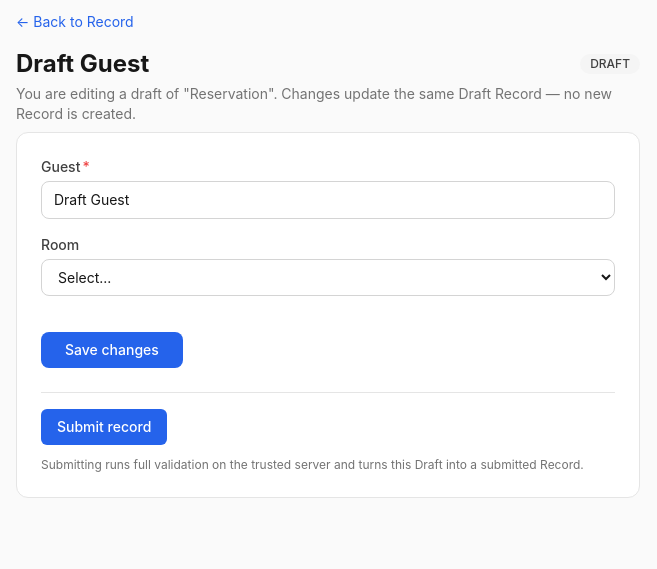
Scenario: Record Edit — saving › reuses the operationId when retrying an identical failed payload
Replace the text in the field showing "Draft Guest" with "X". click: {"x": 328, "y": 200}
box: [41, 181, 615, 219]
Wait 1500 ms
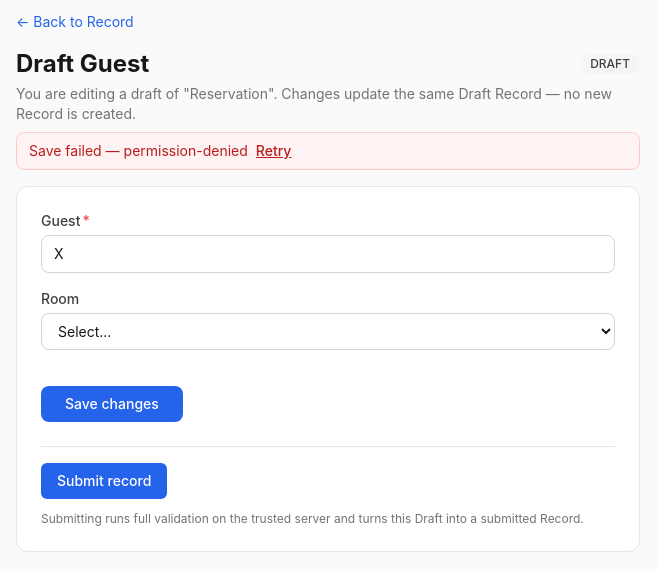
Now the message shows "Save failed — permission-denied", box [16, 132, 640, 170]
Click the button "Retry". click: {"x": 274, "y": 151}
box: [256, 141, 292, 161]
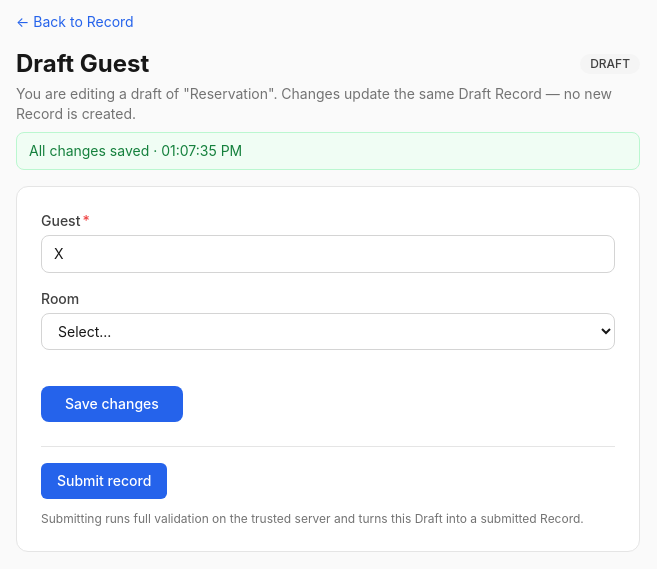
Now the text "All changes saved · 01:07:35 PM" is shown, box [16, 132, 640, 170]
